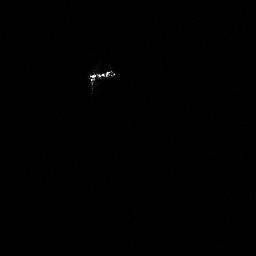ship: (86, 67, 118, 91)
